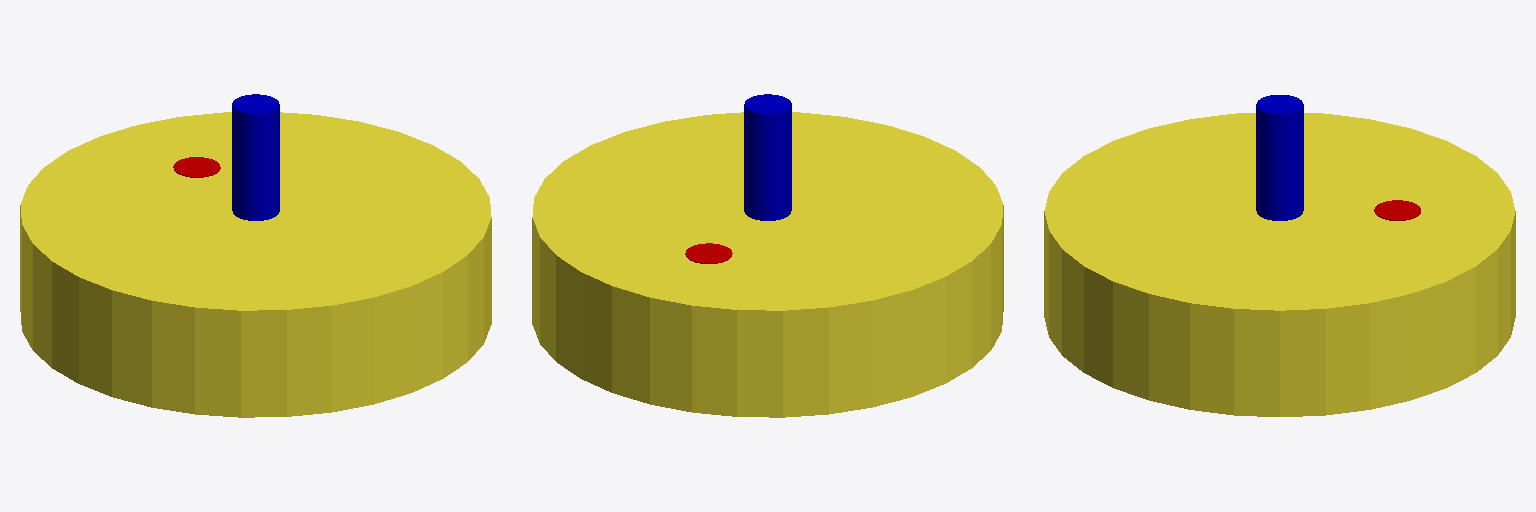
URDF robot description (pointRobot):
<?xml version="1.0"?>
<!-- =================================================================================== -->
<!-- |    This document was autogenerated by xacro from panda_arm.urdf.xacro           | -->
<!-- |    EDITING THIS FILE BY HAND IS NOT RECOMMENDED                                 | -->
<!-- =================================================================================== -->


<robot name="pointRobot">
  <material name="blue">
      <color rgba="0 0 0.8 1"/>
  </material>
  <material name="red">
      <color rgba="0.8 0 0.0 1"/>
  </material>
  <link name="world"/>
  <link name="base_link_x">
    <inertial>
      <mass value="1.0"/>
      <origin rpy="0 0 0" xyz="0 0 0"/>
      <inertia ixx="1.0" ixy="0.0" ixz="0.0" iyy="1.0" iyz="0.0" izz="1.0"/>
    </inertial>
  </link>
  <link name="base_link_y">
    <inertial>
      <mass value="1.0"/>
      <origin rpy="0 0 0" xyz="0 0 0"/>
      <inertia ixx="1.0" ixy="0.0" ixz="0.0" iyy="1.0" iyz="0.0" izz="1.0"/>
    </inertial>
  </link>
  <link name="base_link">
    <inertial>
      <mass value="100.0"/>
      <origin rpy="0 0 0" xyz="0 0 0"/>
      <inertia ixx="1.0" ixy="0.0" ixz="0.0" iyy="1.0" iyz="0.0" izz="1.0"/>
    </inertial>
    <collision>
      <origin rpy="0.0 0 0" xyz="0 0 0"/>
      <geometry>
          <cylinder length="0.1" radius="0.2"/>
      </geometry>
    </collision>
    <visual>
      <origin rpy="0.0 0 0" xyz="0 0 0"/>
      <geometry>
          <cylinder length="0.1" radius="0.2"/>
      </geometry>
    </visual>
  </link>
  <link name="lidar_link">
    <inertial>
      <mass value="100.0"/>
      <origin rpy="0 0 0" xyz="0 0 0"/>
      <inertia ixx="1.0" ixy="0.0" ixz="0.0" iyy="1.0" iyz="0.0" izz="1.0"/>
    </inertial>
    <collision>
      <origin rpy="0.0 0 0" xyz="0 0 0"/>
      <geometry>
          <cylinder length="0.1" radius="0.02"/>
      </geometry>
    </collision>
    <visual>
      <origin rpy="0.0 0 0" xyz="0 0 0"/>
      <geometry>
          <cylinder length="0.1" radius="0.02"/>
      </geometry>
      <material name="blue"/>
    </visual>
  </link>
  <link name="feature_link">
    <inertial>
      <mass value="1.0"/>
      <origin rpy="0 0 0" xyz="0 0 0"/>
      <inertia ixx="1.0" ixy="0.0" ixz="0.0" iyy="1.0" iyz="0.0" izz="1.0"/>
    </inertial>
    <collision>
      <origin rpy="0.0 0 0" xyz="0 0 0"/>
      <geometry>
          <cylinder length="0.001" radius="0.02"/>
      </geometry>
    </collision>
    <visual>
      <origin rpy="0.0 0 0" xyz="0 0 0"/>
      <geometry>
          <cylinder length="0.001" radius="0.02"/>
      </geometry>
      <material name="red"/>
    </visual>
  </link>
  <link name="lidar_sensor_link"/>
  <joint name="mobile_joint_x" type="prismatic">
    <safety_controller k_position="100.0" k_velocity="40.0" soft_lower_limit="-2.8973" soft_upper_limit="2.8973"/>
    <parent link="world"/>
    <child link="base_link_x"/>
    <origin rpy="0 0 0" xyz="0 0 0.05"/>
    <axis xyz="1 0 0"/>
    <limit effort="87" lower="-5" upper="5" velocity="2.1750"/>
  </joint>
  <joint name="mobile_joint_y" type="prismatic">
    <safety_controller k_position="100.0" k_velocity="40.0" soft_lower_limit="-2.8973" soft_upper_limit="2.8973"/>
    <parent link="base_link_x"/>
    <child link="base_link_y"/>
    <origin rpy="0 0 0" xyz="0 0 0"/>
    <axis xyz="0 1 0"/>
    <limit effort="87" lower="-5" upper="5" velocity="2.1750"/>
  </joint>
  <joint name="mobile_joint_theta" type="revolute">
    <parent link="base_link_y"/>
    <child link="base_link"/>
    <origin rpy="0 0 0" xyz="0 0 0"/>
    <axis xyz="0 0 1"/>
    <limit effort="87" lower="-5" upper="5" velocity="2.1750"/>
  </joint>
  <joint name="robot_lidar" type="fixed">
    <parent link="base_link"/>
    <child link="lidar_link"/>
    <origin rpy="0 0 0" xyz="0 0 0.1"/>
  </joint>
  <joint name="lidar_sensor_joint" type="fixed">
    <parent link="lidar_link"/>
    <child link="lidar_sensor_link"/>
    <origin rpy="0 0 0" xyz="0 0 0.0"/>
  </joint>
  <joint name="feature_link_joint" type='fixed'>
    <parent link="base_link"/>
    <child link="feature_link"/>
    <origin rpy="0 0 0" xyz="0 0.1 0.0505"/>
  </joint>
  
</robot>

--- Render facts (derived) ---
The picture shows the robot from 3 angles, left to right: view 1: azimuth 30°, elevation 25°; view 2: azimuth 150°, elevation 25°; view 3: azimuth 270°, elevation 25°; orthographic projection.
Robot: pointRobot — 7 links, 6 joints (1 revolute, 2 prismatic, 3 fixed); root link world; default pose: every joint at zero.
Links seen in each view (by area): view 1: base_link, lidar_link, feature_link; view 2: base_link, lidar_link, feature_link; view 3: base_link, lidar_link, feature_link.
Boxes of the visible links, x1,y1,x2,y2 form: base_link: (20,112,491,417); lidar_link: (232,94,279,220); feature_link: (173,157,220,177); base_link: (532,112,1003,417); lidar_link: (744,94,791,220); feature_link: (685,243,732,263); base_link: (1044,113,1515,416); lidar_link: (1256,95,1303,220); feature_link: (1374,200,1420,220).
Size in the robot's own frame: 0.4 by 0.4 by 0.2 metres.
Geometry: primitives only (box / cylinder / sphere), no mesh files.